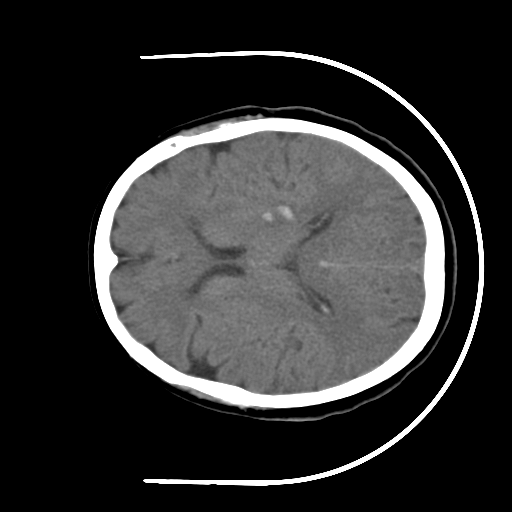a: (251, 192, 310, 234)
